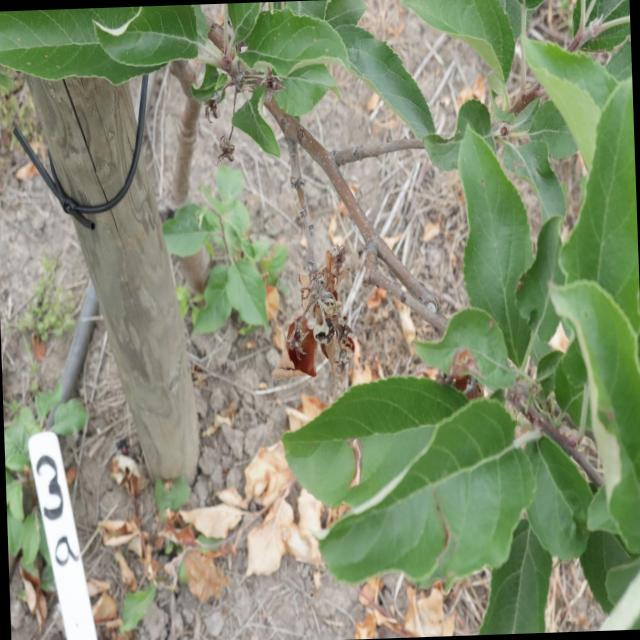-FireBlight-: (268, 269, 366, 374)
